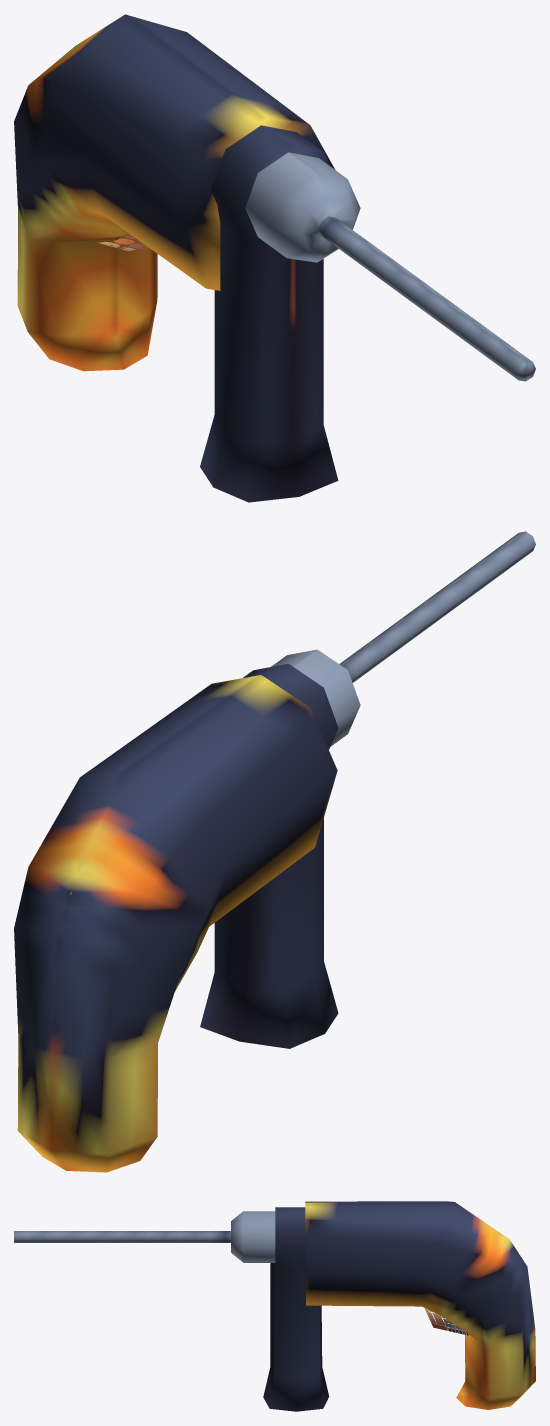
File: atiraprego.fbx
3 views of the same model, one above another, from view 1: azimuth 30°, elevation 25°; view 2: azimuth 150°, elevation 25°; view 3: azimuth 270°, elevation 25° (orthographic). The views are drawn at different scales.
Parts seen in each view (by area): view 1: Furadeira; view 2: Furadeira; view 3: Furadeira.
Boxes of the visible parts, bbox=[...] form: Furadeira: bbox=[14, 14, 535, 502]; Furadeira: bbox=[14, 531, 535, 1172]; Furadeira: bbox=[14, 1201, 535, 1411].
Size of the model in its own units: 10.11 by 20.35 by 49.13.
